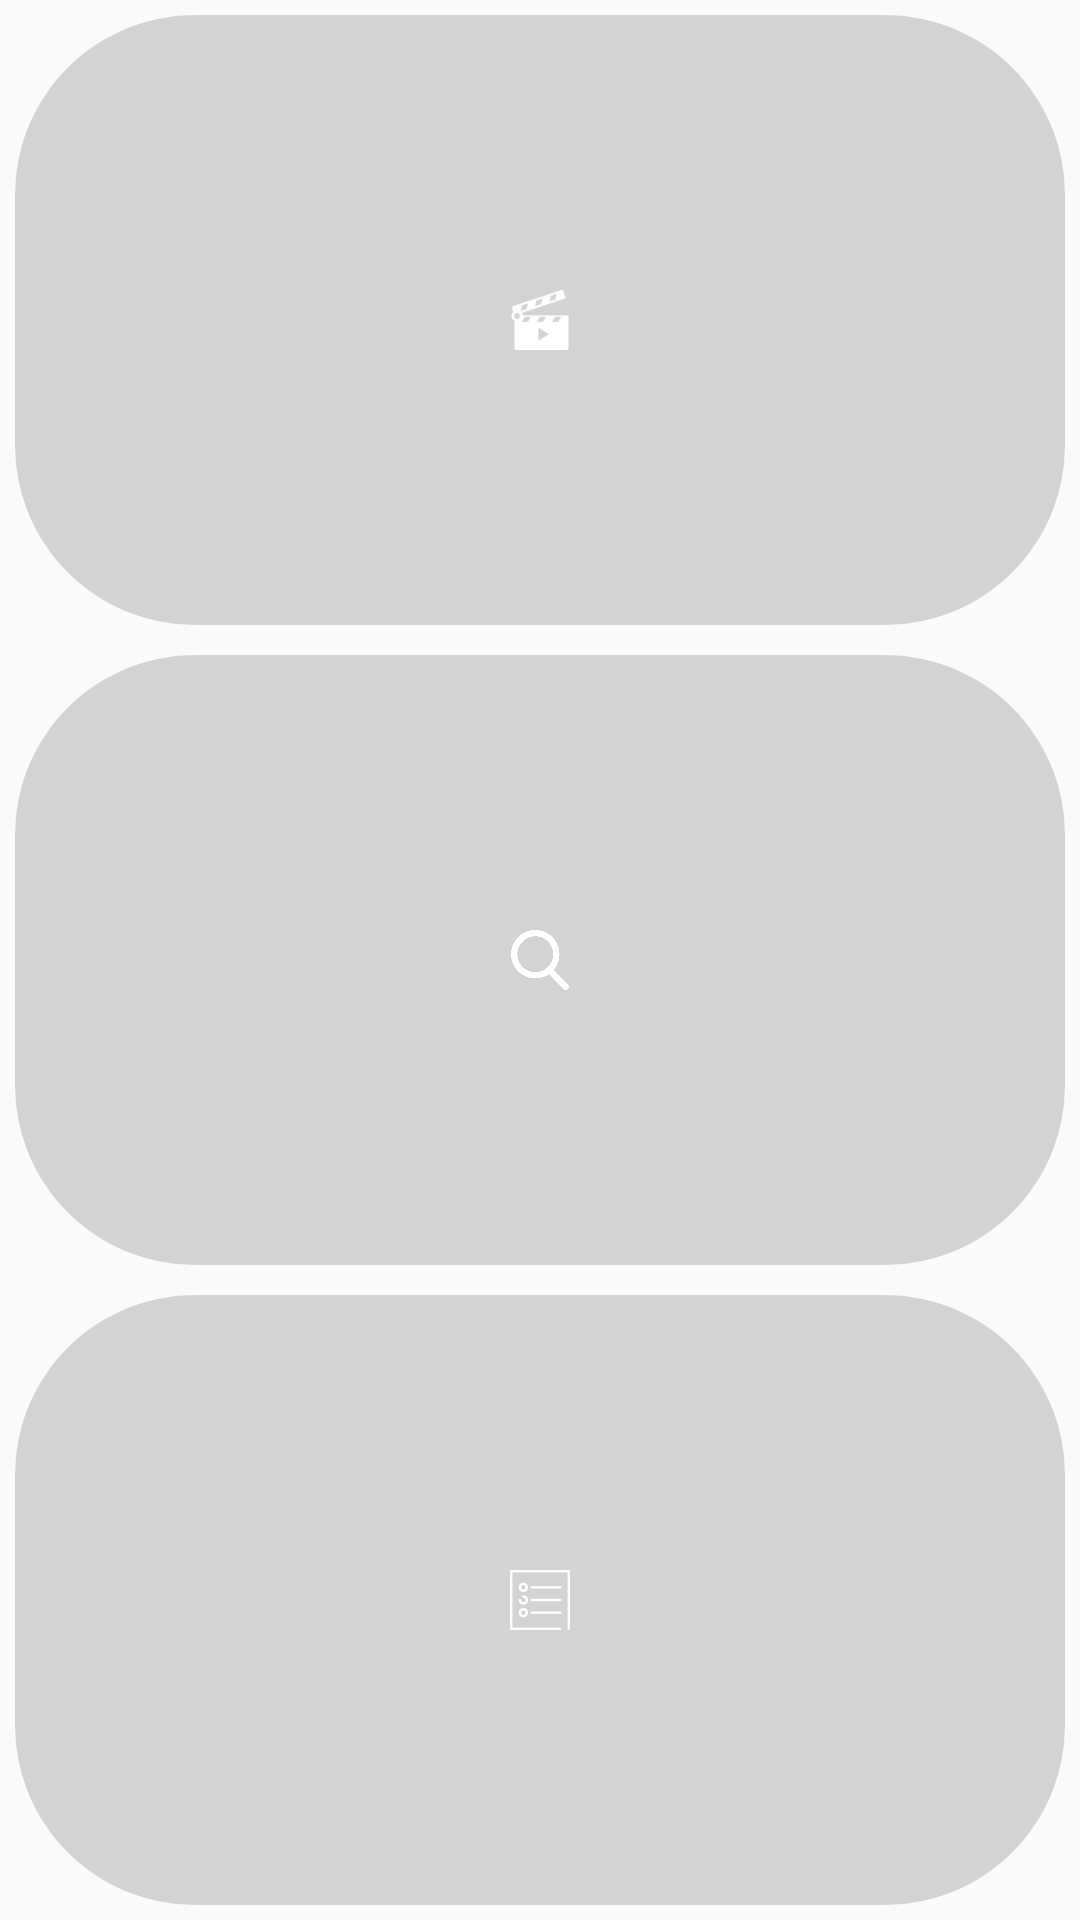

Where to tap for icons on this 1080*1920 app screen, as (x=x, y=y):
library: (x=540, y=1600)
movies: (x=540, y=320)
search: (x=540, y=960)
